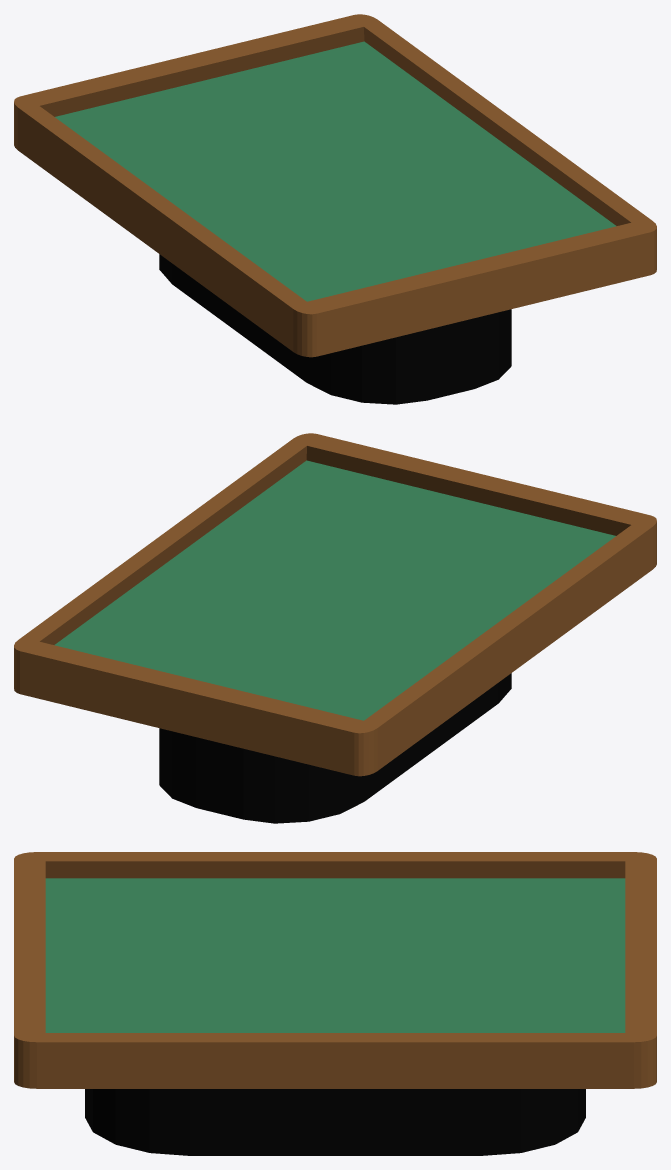
The model's file is poker_table.fbx.
The picture shows the model from 3 angles, top to bottom: view 1: azimuth 30°, elevation 25°; view 2: azimuth 150°, elevation 25°; view 3: azimuth 270°, elevation 25°; orthographic projection. The views are drawn at different scales.
Parts seen in each view (by area): view 1: Cube; view 2: Cube; view 3: Cube.
Boxes of the visible parts, box(x1,y1,x2,y2) form: Cube: box(14, 14, 656, 404); Cube: box(14, 433, 656, 823); Cube: box(14, 852, 656, 1155).
Size of the model in its own units: 700 by 271 by 1000.
